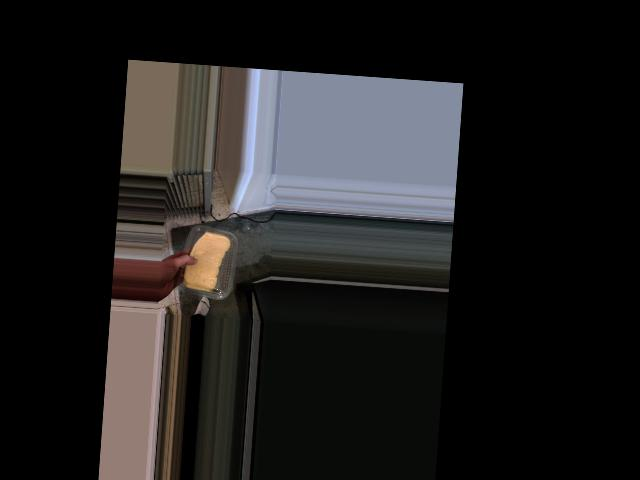cheese: (178, 225, 234, 299)
